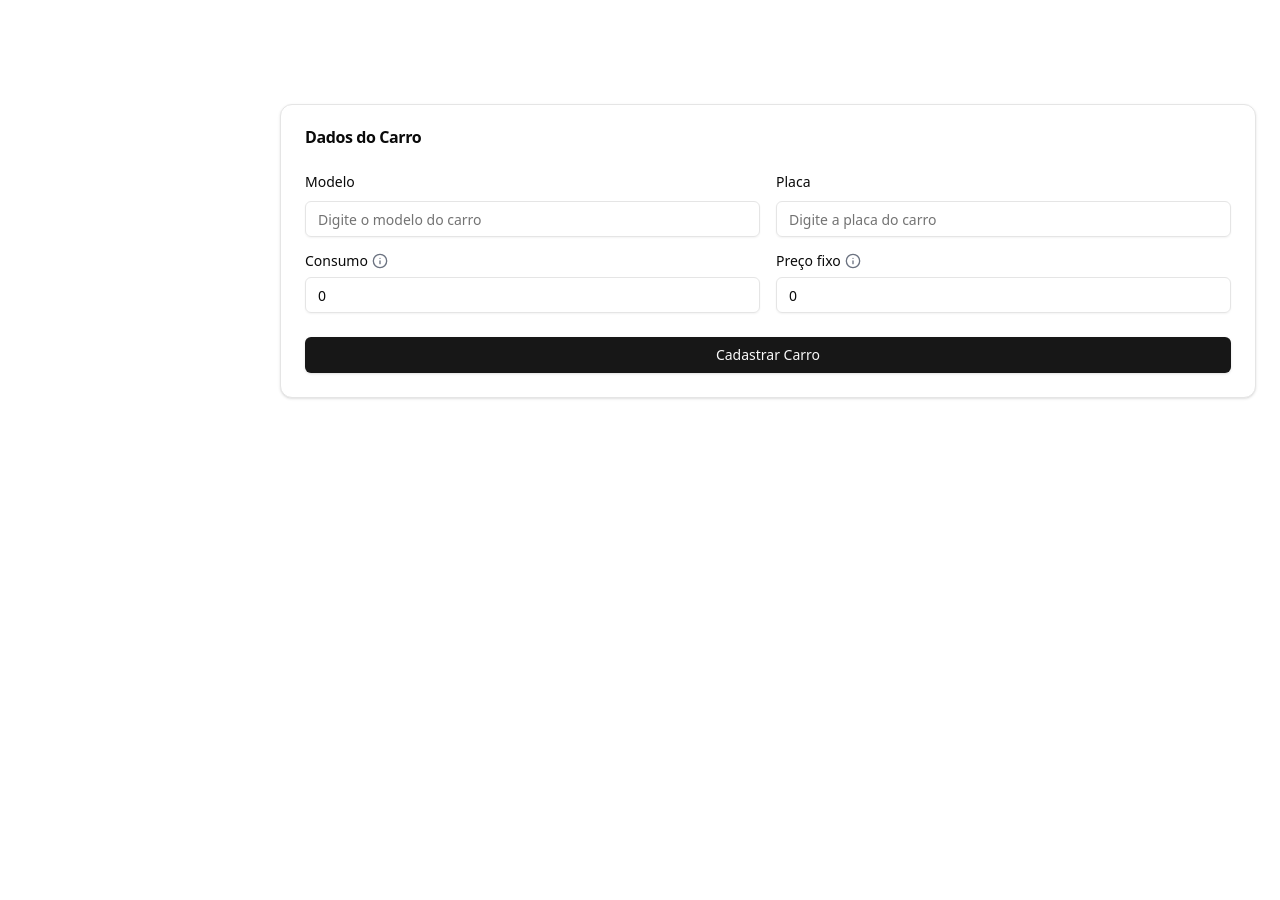
Scenario: CarRegisterForm › exibe erro ao tentar enviar sem preencher modelo
Step 1. Click the button "Cadastrar Carro" → (768, 355), box [305,337,1231,373]
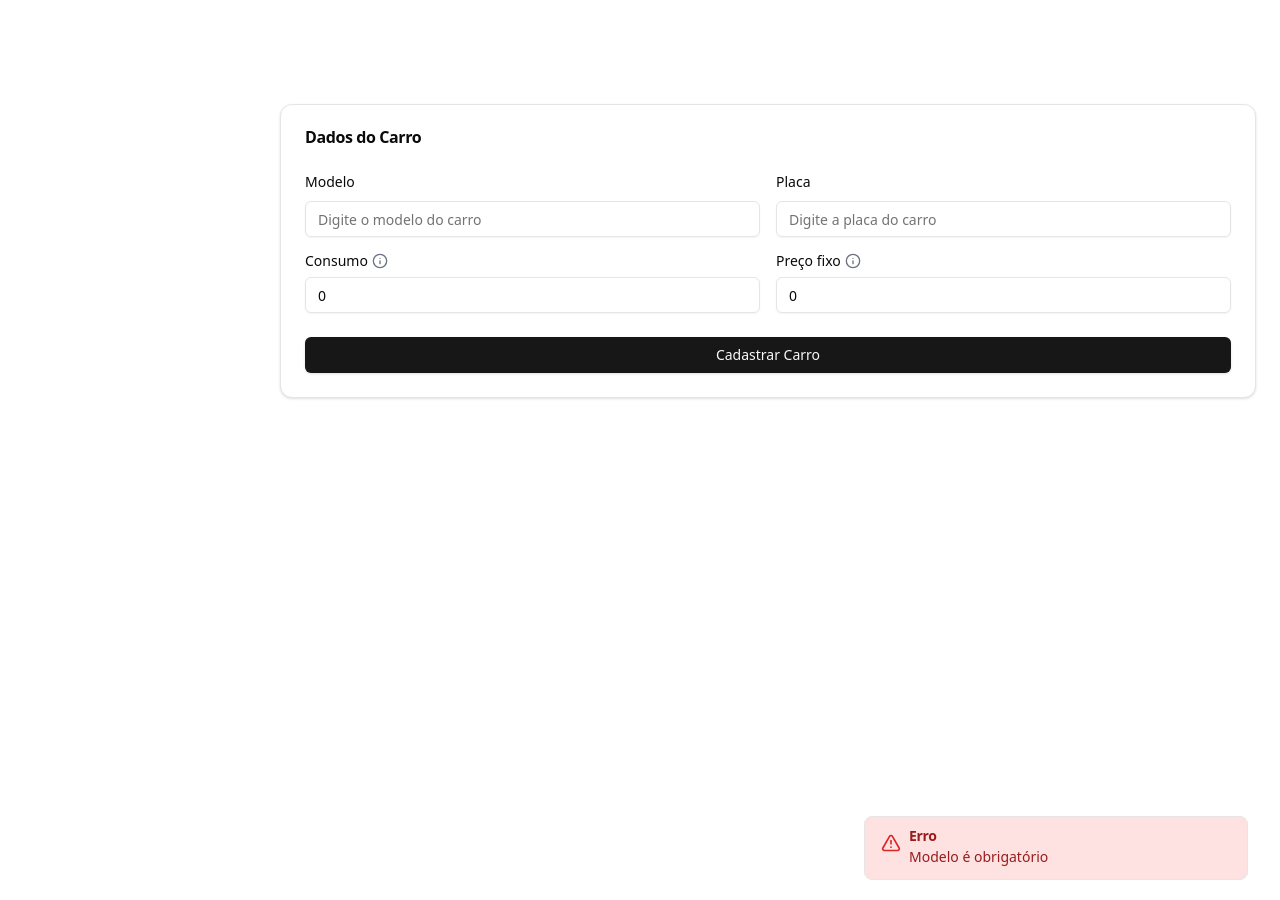
expect the text "Modelo é obrigatório" is shown: met, box [909,847,1048,866]
